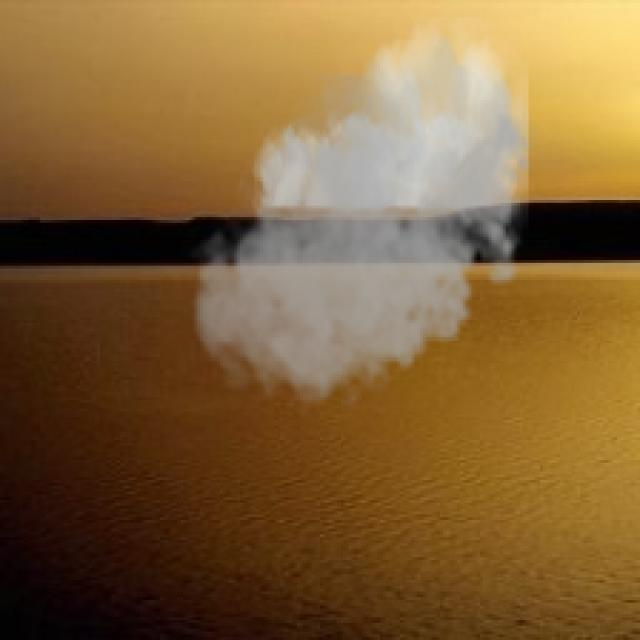Smoke: (186, 17, 543, 420)
